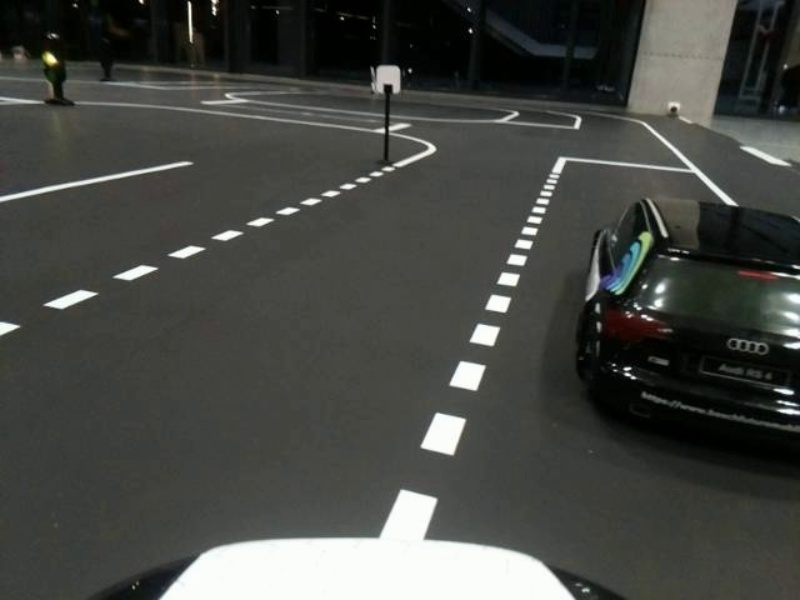car: (573, 184, 800, 472)
